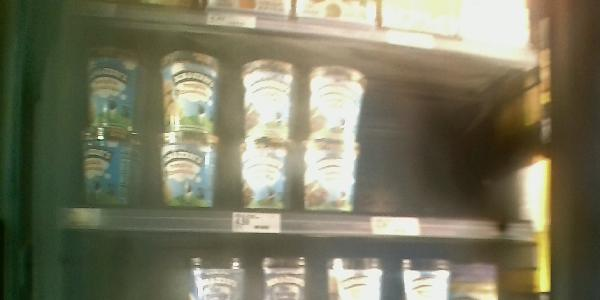icecream: (155, 130, 218, 209), (161, 51, 220, 130), (240, 59, 297, 140), (83, 51, 139, 132), (309, 65, 366, 144), (82, 134, 136, 206), (238, 140, 293, 210), (305, 140, 357, 210)
